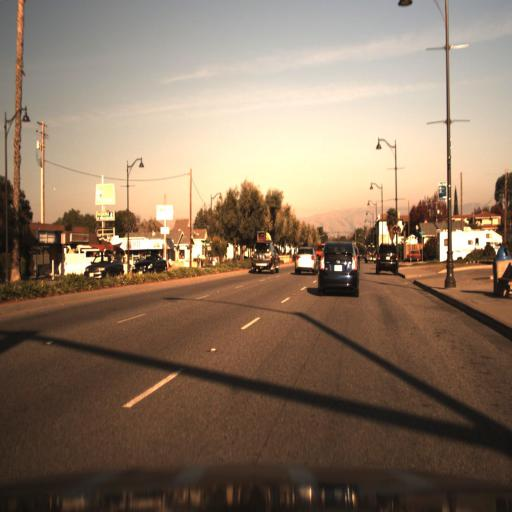car: (318, 241, 360, 299), (246, 230, 280, 275), (84, 251, 124, 287), (131, 251, 170, 277), (373, 242, 400, 275), (291, 247, 317, 280), (405, 245, 422, 270)
truck: (434, 224, 505, 265)
